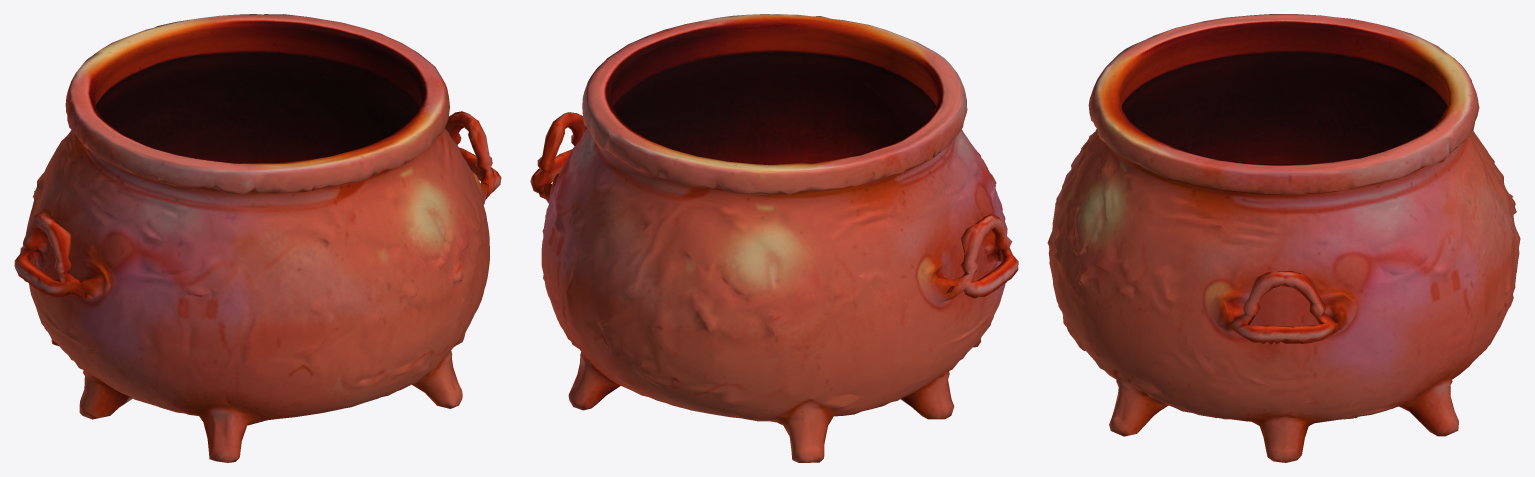
The model's file is Caldeirão com textura basica + fogo.obj.
3 renders of one model, left to right at view 1: azimuth 30°, elevation 25°; view 2: azimuth 150°, elevation 25°; view 3: azimuth 270°, elevation 25°, orthographic.
Visible parts, largest first — view 1: Geometry01; view 2: Geometry01; view 3: Geometry01.
Part boxes in pixels (x1,y1,x2,y2): Geometry01: (14,14,501,462); Geometry01: (530,14,1018,462); Geometry01: (1047,14,1520,462).
Bounding box in the file's own units: 21.56 × 12.66 × 19.05.
Materials: 1 (1 with a texture image).
